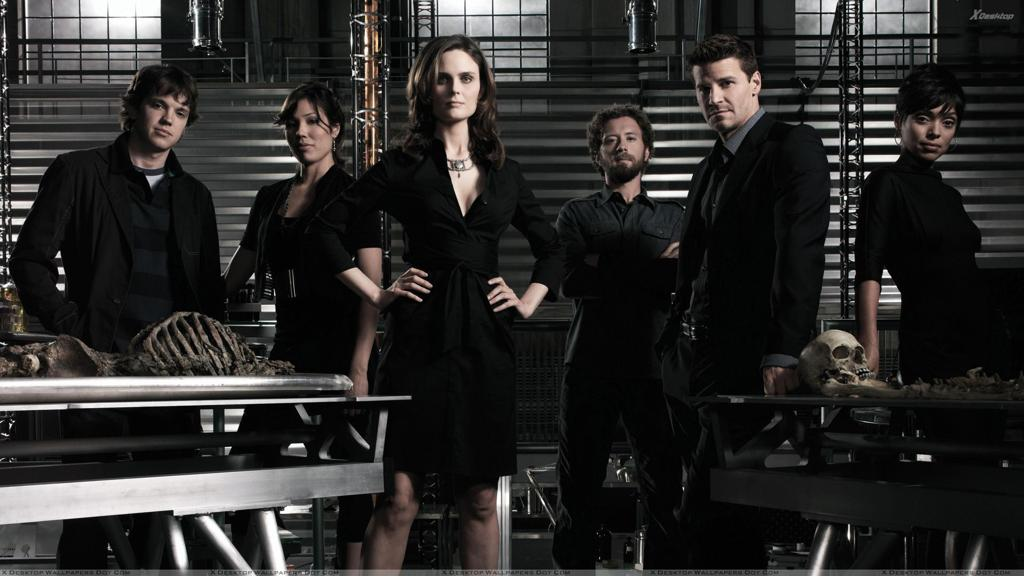face: (692, 63, 752, 127), (426, 51, 480, 118), (903, 99, 958, 160), (133, 94, 189, 148), (284, 100, 332, 161), (597, 120, 643, 171)
